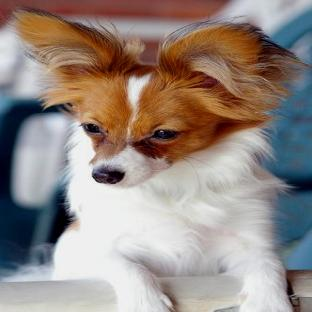Animal: (12, 8, 307, 311)
